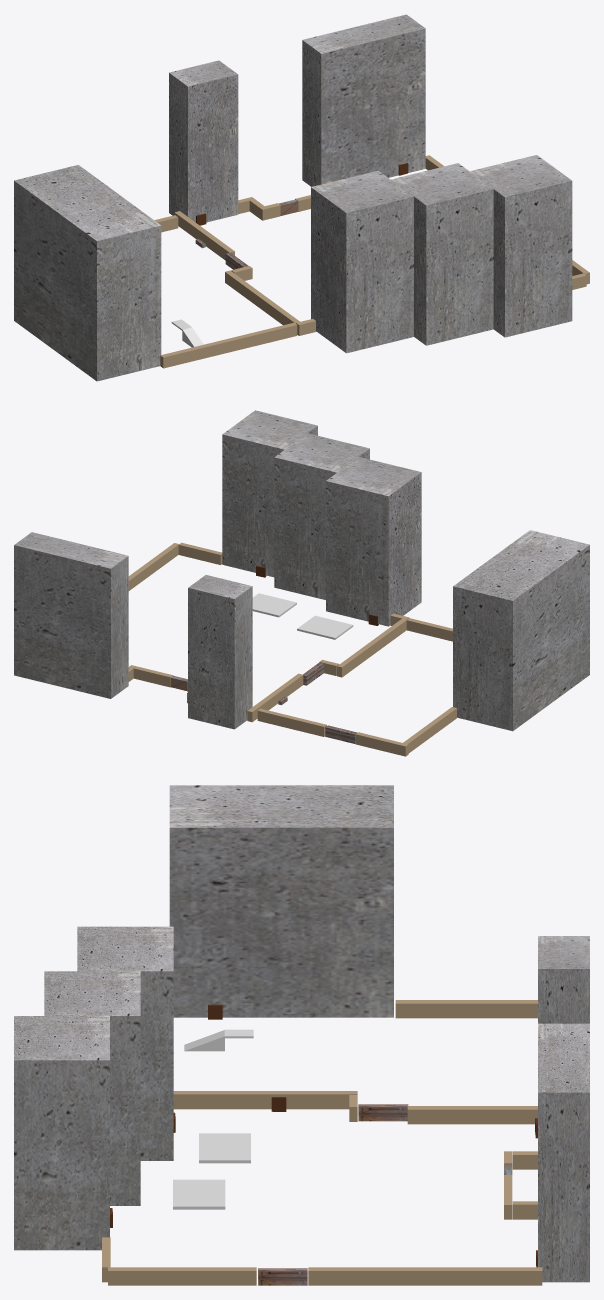
Rendered from flora_square.glb.
The picture shows the model from 3 angles, top to bottom: view 1: azimuth 30°, elevation 25°; view 2: azimuth 150°, elevation 25°; view 3: azimuth 270°, elevation 25°; orthographic projection. The views are drawn at different scales.
Visible parts, largest first — view 1: Building 2, Building 1, Building 4, Building 4.001, Building 4.002, Building 3, Building 3.013, Building 3.006, Building 3.011; view 2: Building 2, Building 1, Building 4, Building 3, Building 4.002, Building 4.001, Building 3.006, Building 3.014, Cube, Building 3.011, Building 3.009, Building 3.015 (+5 smaller); view 3: Building 2, Building 4.002, Building 1, Building 4, Building 4.001, Building 3, Building 3.007, Building 3.006, Building 3.009, Building 3.015, Building 3.011, Cube.001 (+3 smaller).
Boxes of the visible parts, left/top/right/bottom form: Building 2: left=14, top=165, right=161, bottom=381; Building 1: left=302, top=14, right=425, bottom=186; Building 4: left=311, top=170, right=413, bottom=353; Building 4.001: left=391, top=163, right=493, bottom=345; Building 4.002: left=470, top=155, right=572, bottom=337; Building 3: left=169, top=60, right=238, bottom=222; Building 3.013: left=160, top=322, right=297, bottom=368; Building 3.006: left=225, top=270, right=299, bottom=325; Building 3.011: left=174, top=211, right=234, bottom=260; Building 2: left=453, top=530, right=589, bottom=731; Building 1: left=14, top=532, right=128, bottom=698; Building 4: left=326, top=457, right=421, bottom=626; Building 3: left=188, top=575, right=252, bottom=729; Building 4.002: left=222, top=410, right=317, bottom=577; Building 4.001: left=274, top=433, right=369, bottom=599; Building 3.006: left=337, top=618, right=406, bottom=677; Building 3.014: left=257, top=708, right=326, bottom=736; Cube: left=297, top=615, right=353, bottom=639; Building 3.011: left=247, top=673, right=303, bottom=722; Building 3.009: left=128, top=543, right=178, bottom=590; Building 3.015: left=401, top=707, right=456, bottom=753; Building 2: left=169, top=785, right=393, bottom=1017; Building 4.002: left=14, top=1016, right=109, bottom=1250; Building 1: left=538, top=1023, right=589, bottom=1282; Building 4: left=77, top=926, right=173, bottom=1160; Building 4.001: left=44, top=971, right=140, bottom=1205; Building 3: left=538, top=936, right=589, bottom=1023; Building 3.007: left=308, top=1267, right=542, bottom=1285; Building 3.006: left=173, top=1091, right=357, bottom=1109; Building 3.009: left=108, top=1267, right=256, bottom=1285; Building 3.015: left=395, top=1000, right=537, bottom=1018; Building 3.011: left=407, top=1106, right=537, bottom=1124; Cube.001: left=173, top=1179, right=225, bottom=1209.
Size of what is drawn, in the model's own units: 96.39 by 27.85 by 75.56.
27 materials, 4 textured.
